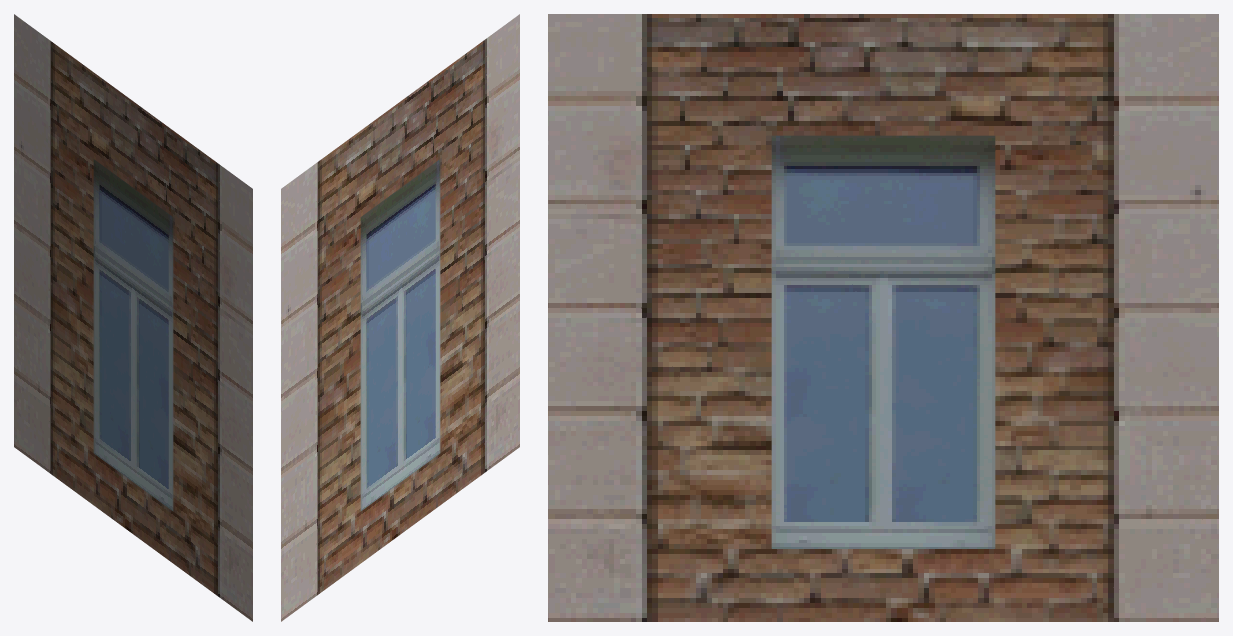
Rendered from fancy_brick_wall_window_1.glb.
3 renders of one model, left to right at view 1: azimuth 30°, elevation 25°; view 2: azimuth 150°, elevation 25°; view 3: azimuth 270°, elevation 25°, orthographic. The views are drawn at different scales.
Visible parts, largest first — view 1: fancy_brick_wall_window_1; view 2: fancy_brick_wall_window_1; view 3: fancy_brick_wall_window_1.
Boxes of the visible parts, x1=… form: fancy_brick_wall_window_1: x1=14, y1=14, x2=252, y2=621; fancy_brick_wall_window_1: x1=281, y1=14, x2=519, y2=621; fancy_brick_wall_window_1: x1=548, y1=14, x2=1218, y2=621.
Size of the model in its own units: 0 by 3 by 3.
1 material, 1 textured.
